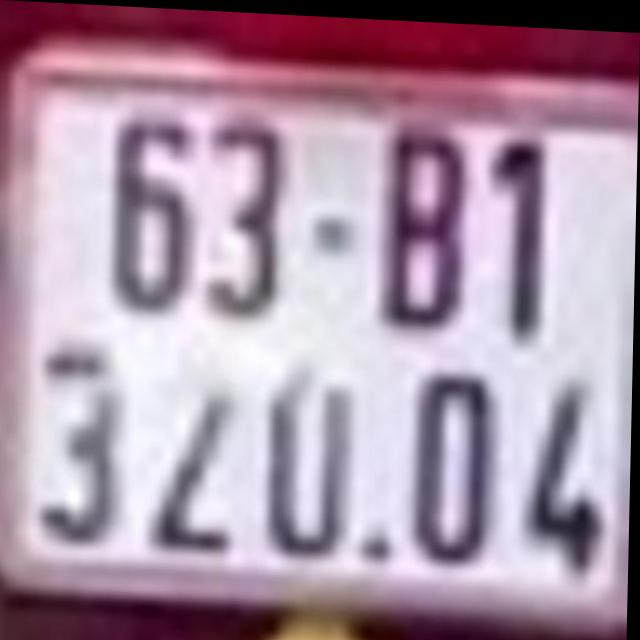0: (266, 347, 353, 553), (411, 361, 498, 562)
1: (487, 128, 545, 345)
2: (150, 346, 238, 553)
3: (203, 112, 286, 311), (40, 345, 125, 536)
4: (527, 368, 608, 566)
6: (111, 105, 198, 316)
B: (387, 117, 471, 328)
